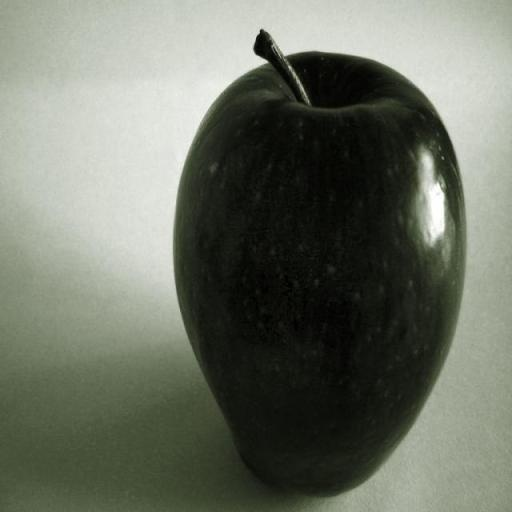fruit: (81, 129, 276, 484)
